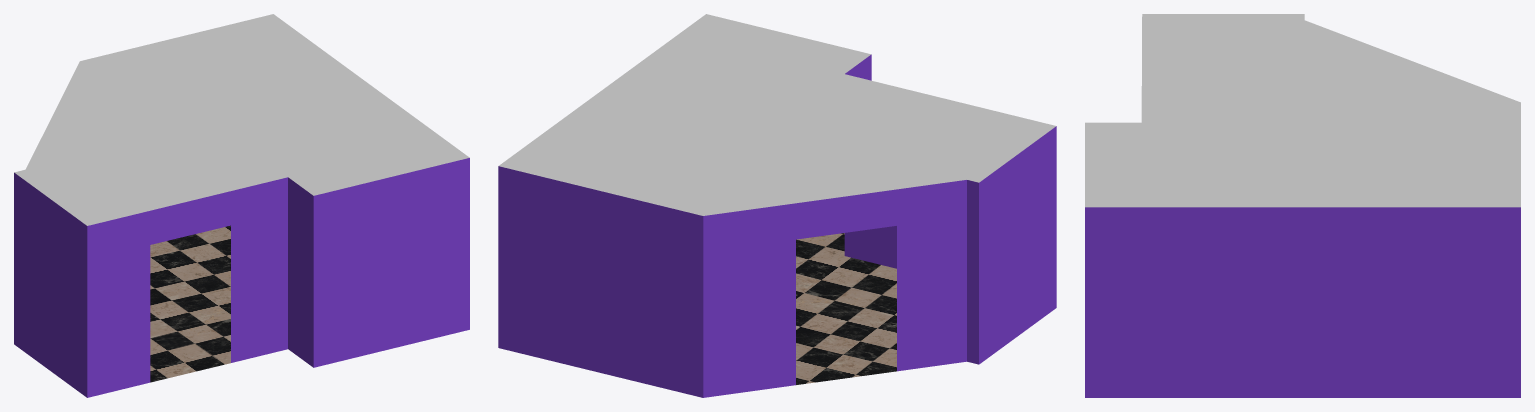
Rendered from cozinha.fbx.
3 renders of one model, left to right at view 1: azimuth 30°, elevation 25°; view 2: azimuth 150°, elevation 25°; view 3: azimuth 270°, elevation 25°, orthographic. The views are drawn at different scales.
Parts seen in each view (by area): view 1: primeiro andar; view 2: primeiro andar; view 3: primeiro andar.
Boxes of the visible parts, box(x1,y1,x2,y2) form: primeiro andar: box(14, 14, 469, 397); primeiro andar: box(498, 14, 1056, 397); primeiro andar: box(1085, 14, 1520, 397).
Bounding box in the file's own units: 651 × 300 × 620.
